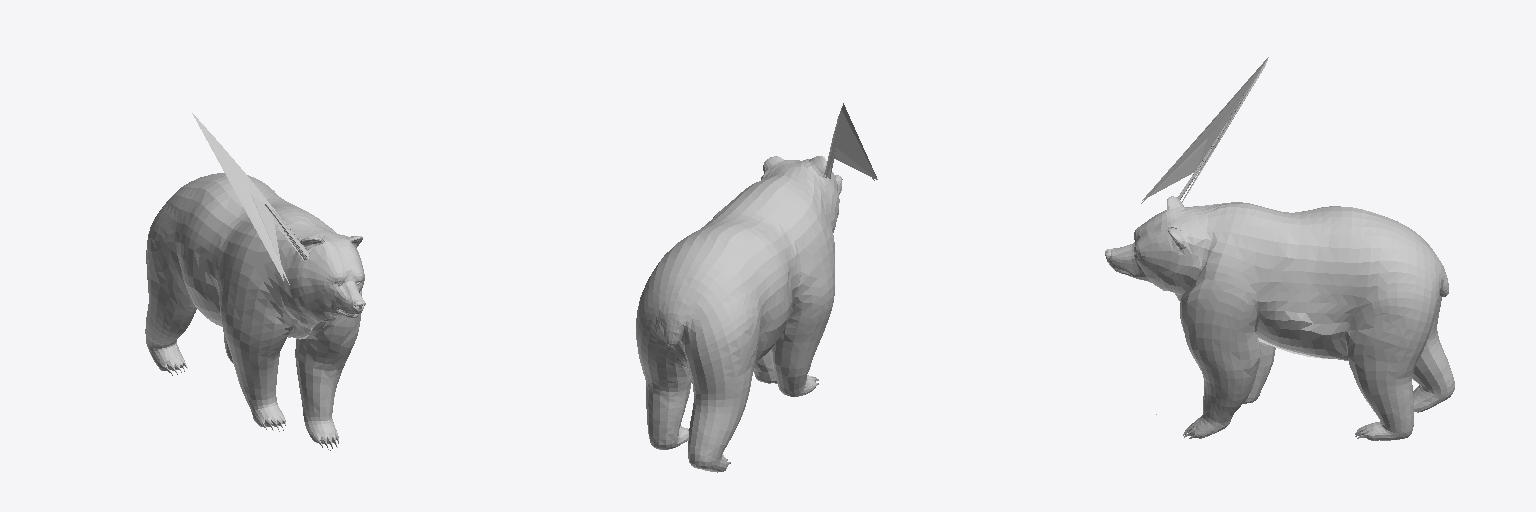
File: Bear0034.obj
The picture shows the model from 3 angles: view 1: azimuth 30°, elevation 25°; view 2: azimuth 150°, elevation 25°; view 3: azimuth 270°, elevation 25°; orthographic projection.
Parts seen in each view (by area): view 1: Object_237; view 2: Object_237; view 3: Object_237.
Part boxes in pixels (x1,y1,x2,y2): Object_237: (145, 113, 365, 450); Object_237: (636, 103, 877, 472); Object_237: (1105, 57, 1454, 440).
Size of the model in its own units: 2.29 by 5.16 by 4.93.